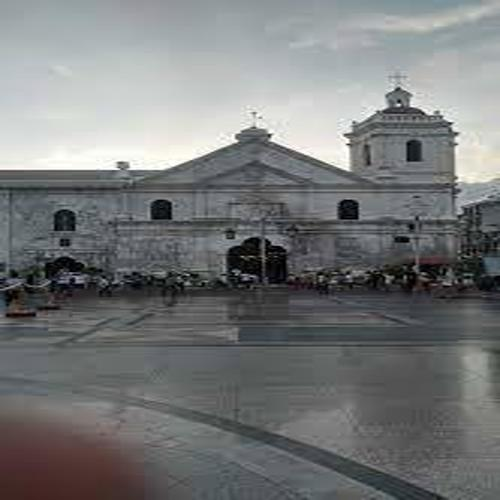Sto. Nino Basilica Church: (129, 51, 462, 290)
